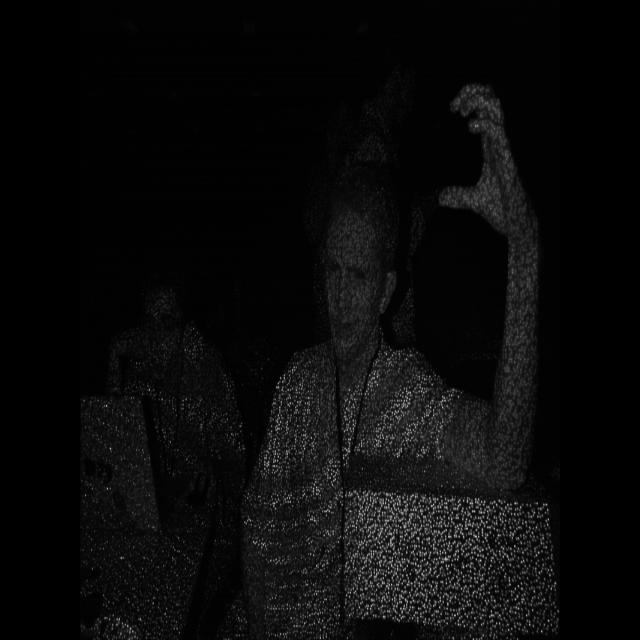C: (428, 72, 541, 240)
